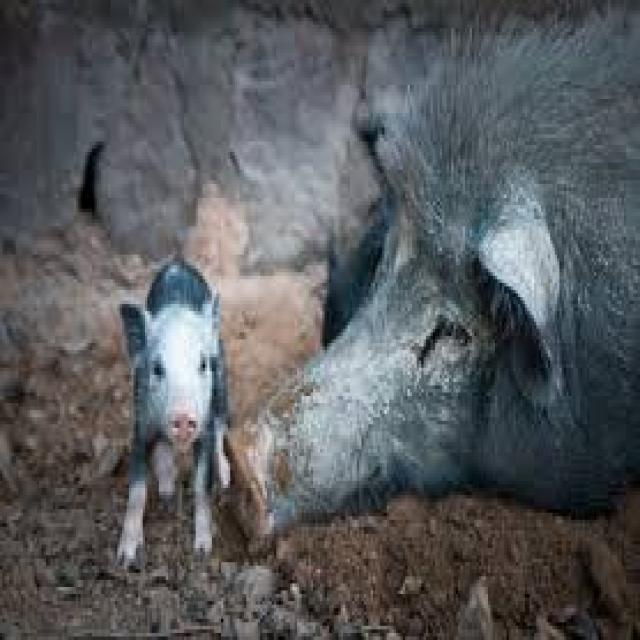Boar: (247, 11, 640, 558), (120, 258, 227, 560)
